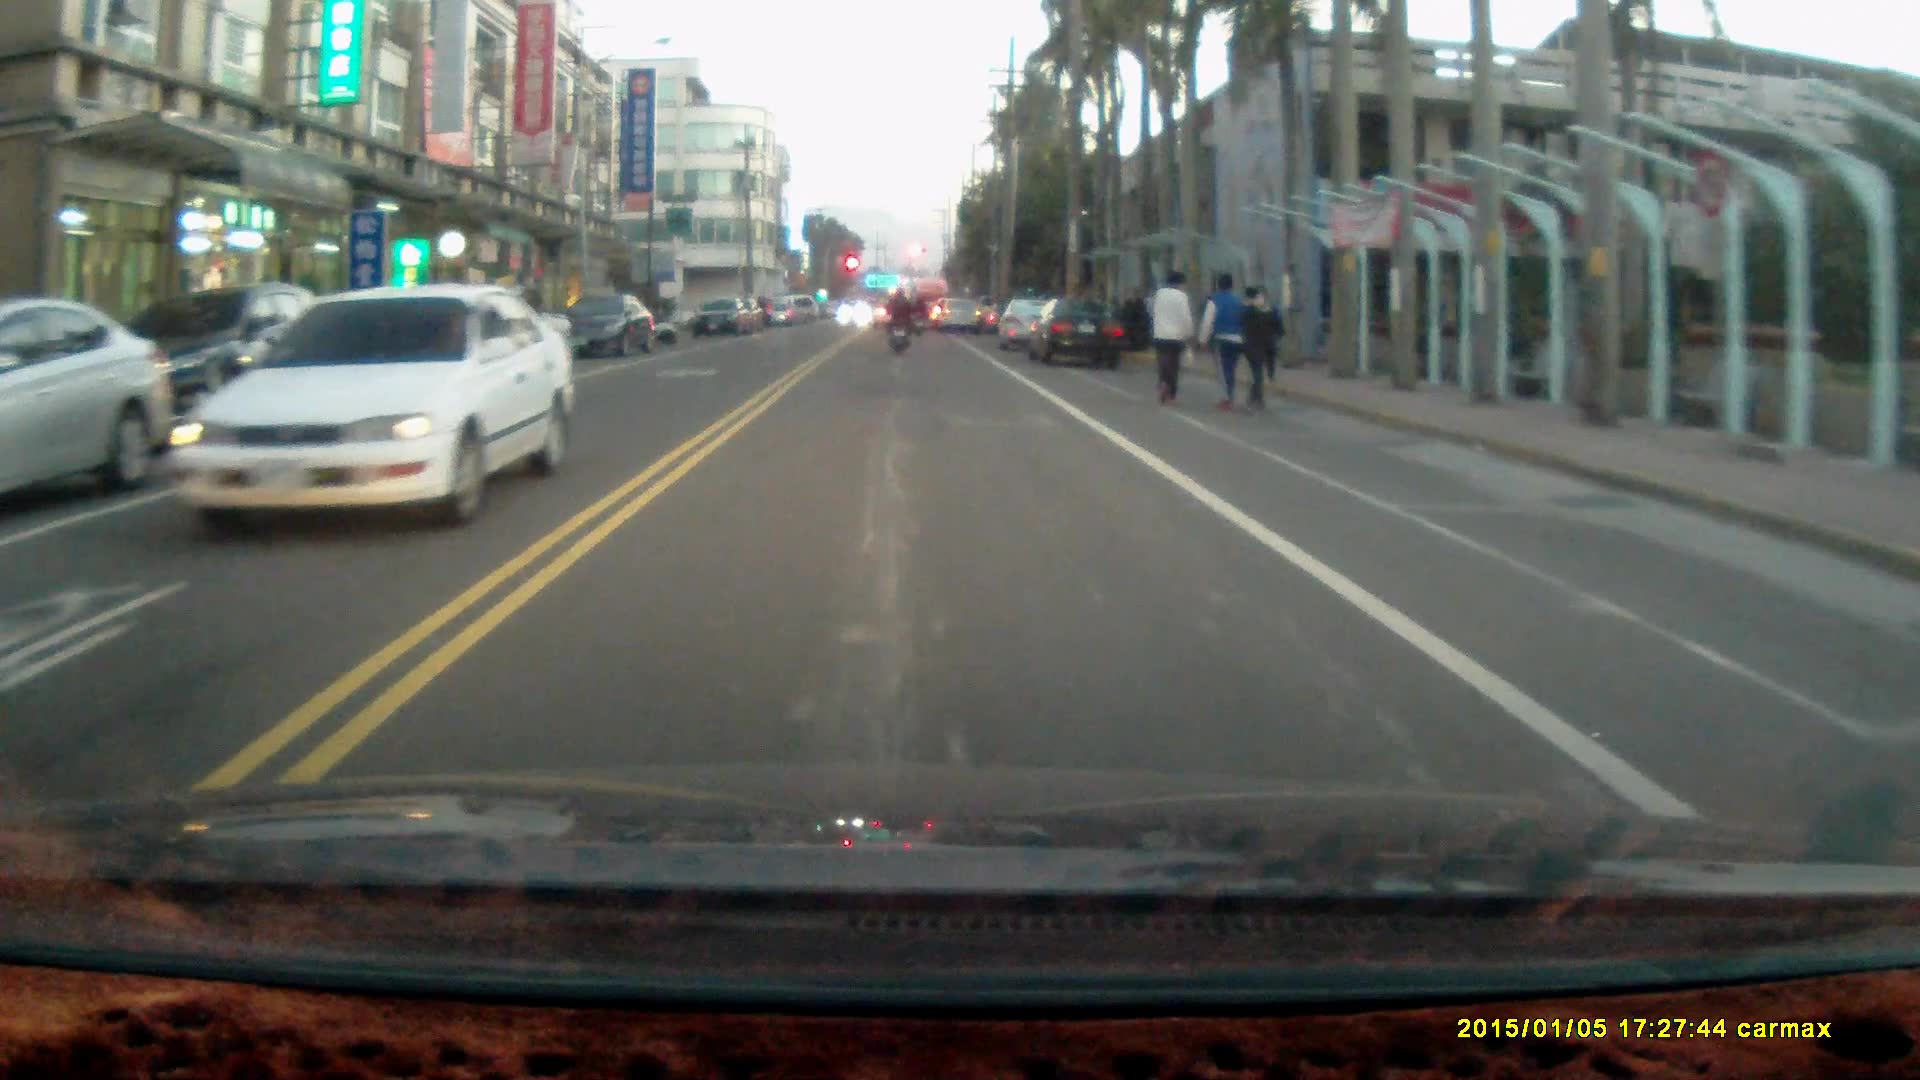pedestrian: (1197, 269, 1245, 410), (1147, 264, 1194, 409), (1236, 281, 1278, 413)
rider: (883, 283, 914, 355)
vehicle: (166, 286, 573, 529), (85, 278, 319, 435), (1, 295, 166, 506), (557, 290, 651, 361), (1035, 298, 1127, 370), (998, 297, 1086, 357), (692, 298, 756, 340)
